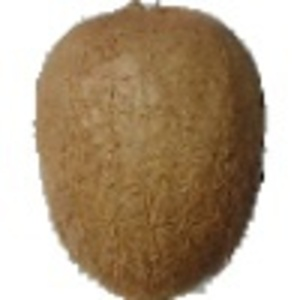kiwi: (33, 1, 268, 300)
